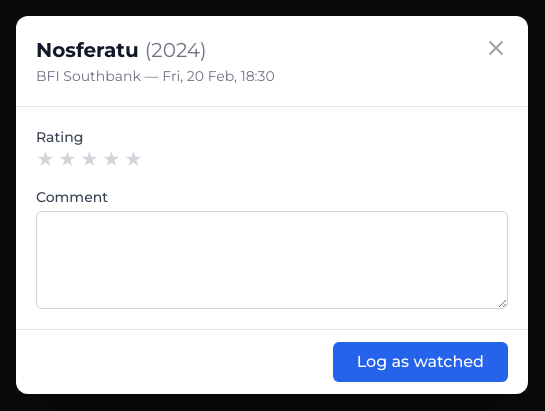
it: LogViewingModal › shows a success message after submitting
Click the button "Log as watched": (420, 362) [333,342,508,382]
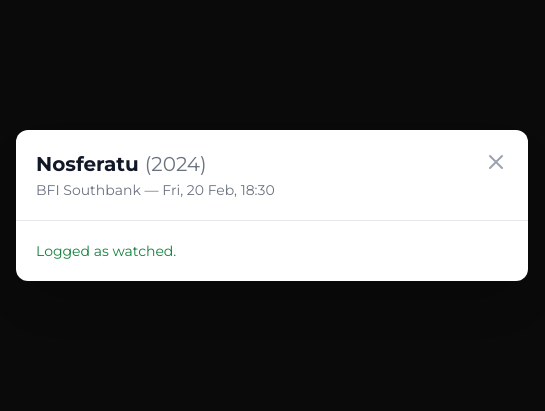
Expected: the text "Logged as watched." is shown, [36,242,176,260]
